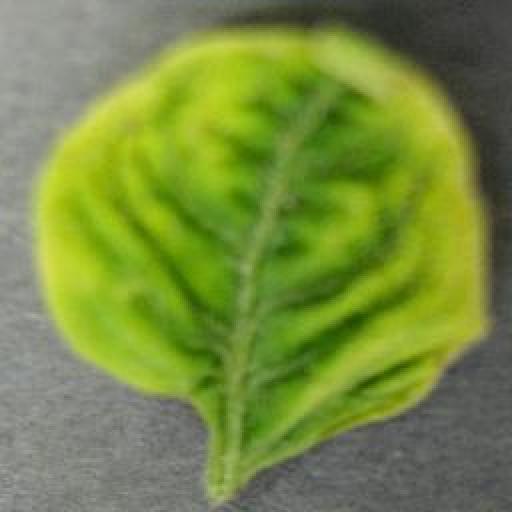disease_tomato: (35, 24, 495, 472)
